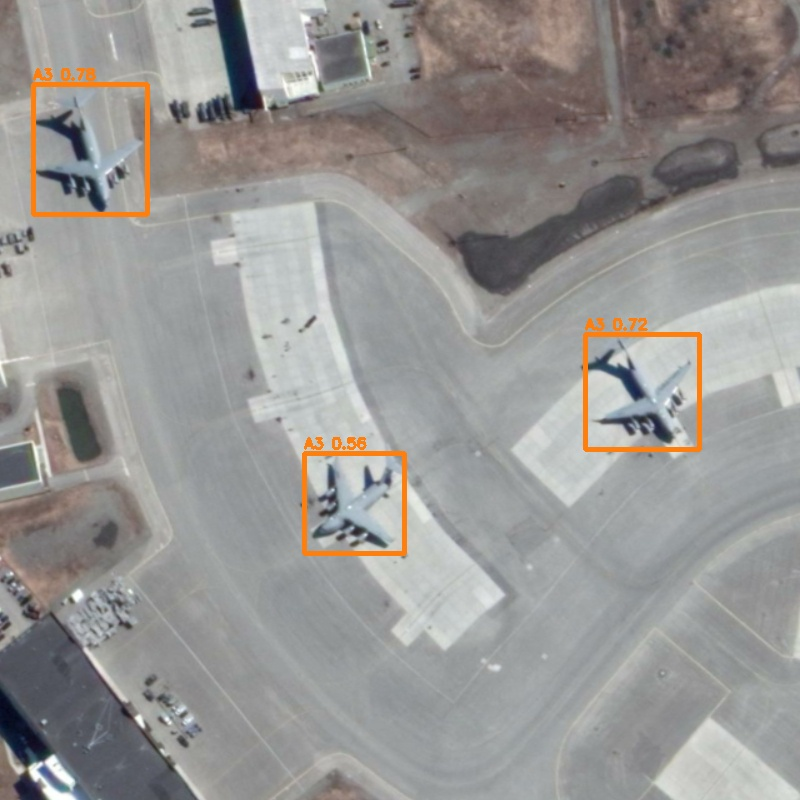A3: (33, 84, 147, 214), (585, 334, 699, 449), (304, 453, 404, 553)
